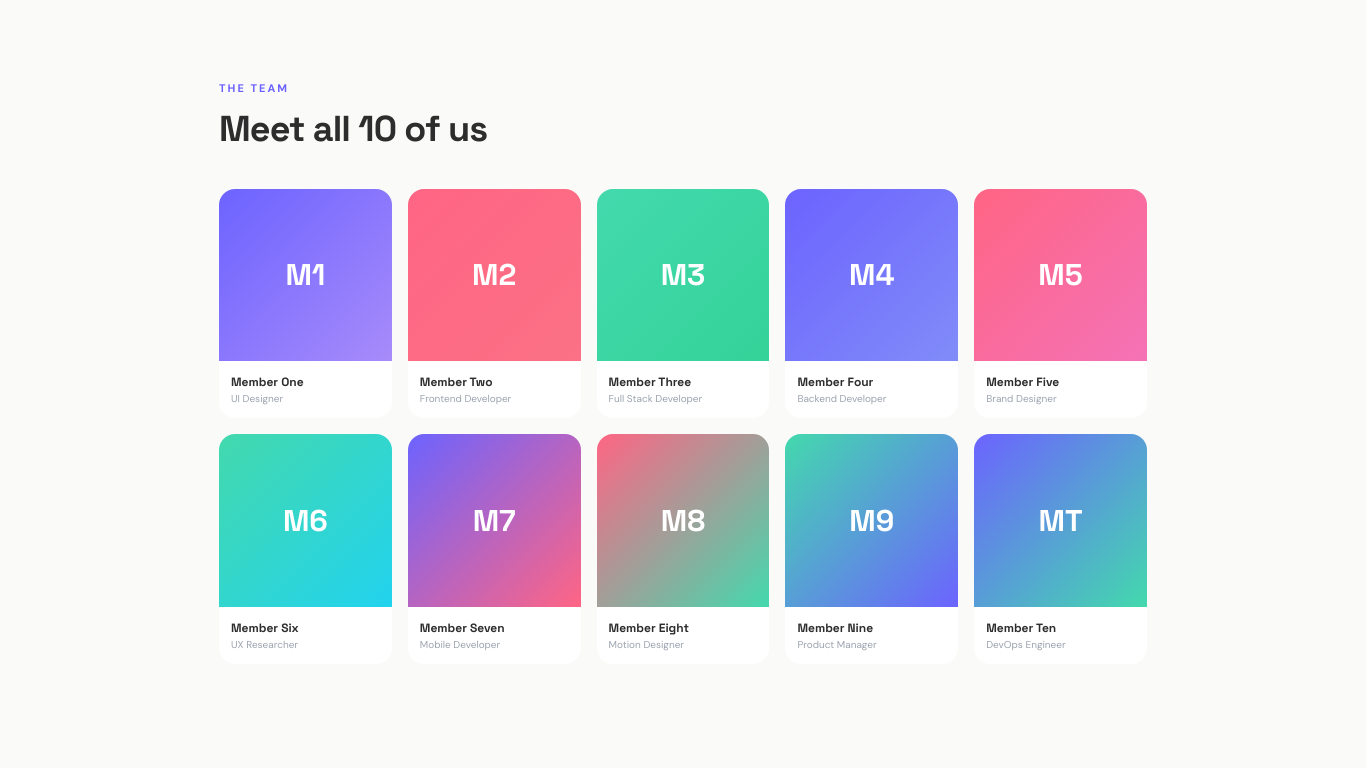
Test: Members › opens modal when a card is clicked
Click the text "M1". click: click(305, 303)
box: [219,188,392,418]
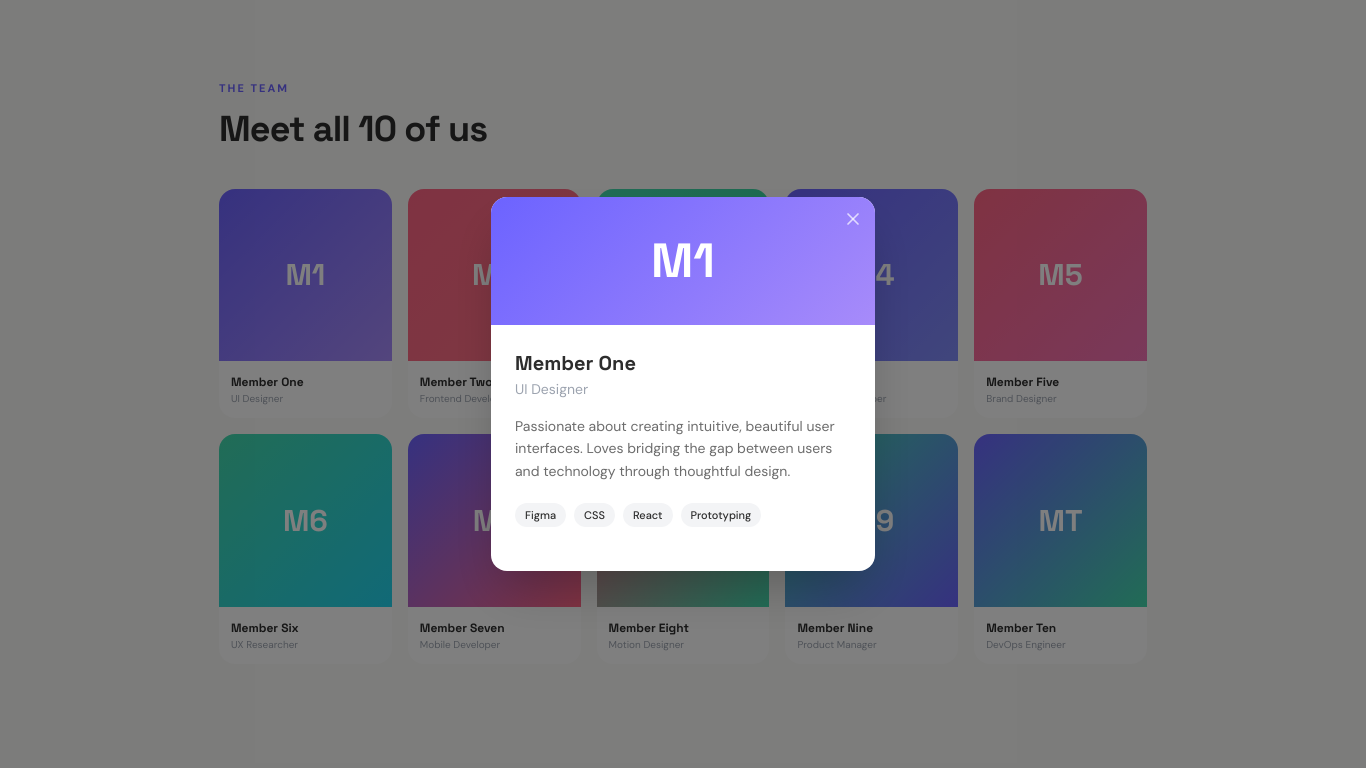
Check: the element with test id "modal-backdrop" is shown
Check: the button named "Close modal" is shown, box [843,209,863,229]
